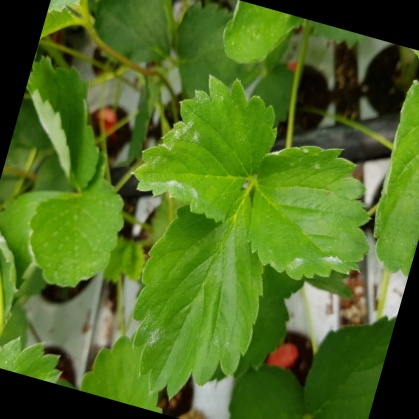Powdery_Leaf: (161, 173, 285, 404), (124, 76, 257, 222), (245, 115, 375, 255), (11, 381, 113, 418)
